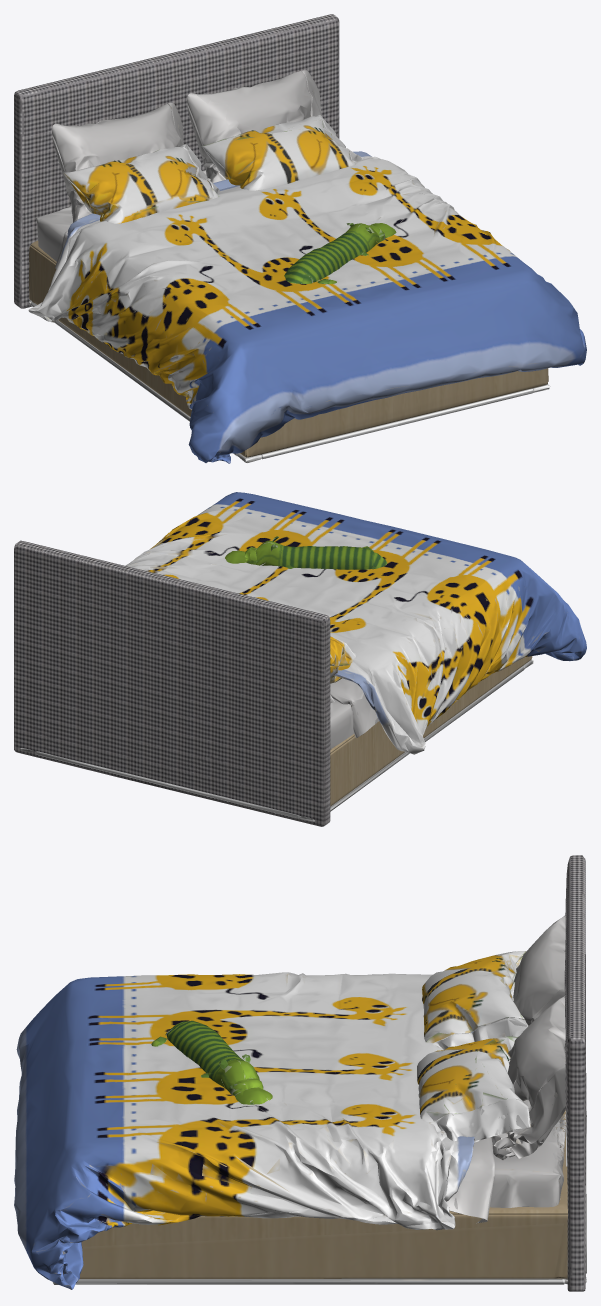
File: raw_model.obj
3 views of the same model, one above another, from view 1: azimuth 30°, elevation 25°; view 2: azimuth 150°, elevation 25°; view 3: azimuth 270°, elevation 25° (orthographic). The views are drawn at different scales.
Visible parts, largest first — view 1: solid_007, solid_008, solid_001, solid_004, solid_006, solid_002, solid_005, solid_003; view 2: solid_008, solid_007, solid_006, solid_002, solid_005, solid_004, solid_001; view 3: solid_007, solid_006, solid_004, solid_001, solid_008, solid_002, solid_003, solid_005.
Boxes of the visible parts, left/top/right/bottom form: solid_007: left=28, top=151, right=586, bottom=463; solid_008: left=14, top=14, right=339, bottom=308; solid_001: left=63, top=116, right=356, bottom=223; solid_004: left=36, top=70, right=321, bottom=268; solid_006: left=28, top=240, right=548, bottom=457; solid_002: left=284, top=223, right=396, bottom=283; solid_005: left=29, top=300, right=550, bottom=462; solid_003: left=178, top=115, right=362, bottom=194; solid_008: left=14, top=540, right=330, bottom=826; solid_007: left=125, top=492, right=586, bottom=754; solid_006: left=330, top=656, right=532, bottom=806; solid_002: left=225, top=536, right=387, bottom=569; solid_005: left=20, top=659, right=533, bottom=821; solid_004: left=330, top=678, right=379, bottom=749; solid_001: left=330, top=636, right=356, bottom=683; solid_007: left=14, top=972, right=475, bottom=1289; solid_006: left=79, top=1110, right=567, bottom=1278; solid_004: left=446, top=915, right=566, bottom=1223; solid_001: left=417, top=951, right=525, bottom=1122; solid_008: left=564, top=855, right=586, bottom=1291; solid_002: left=151, top=1020, right=272, bottom=1104; solid_003: left=429, top=1017, right=530, bottom=1142; solid_005: left=52, top=1111, right=586, bottom=1284.
Size of the model in its own units: 2.08 by 1.07 by 2.19.
Materials: 1 (1 with a texture image).
